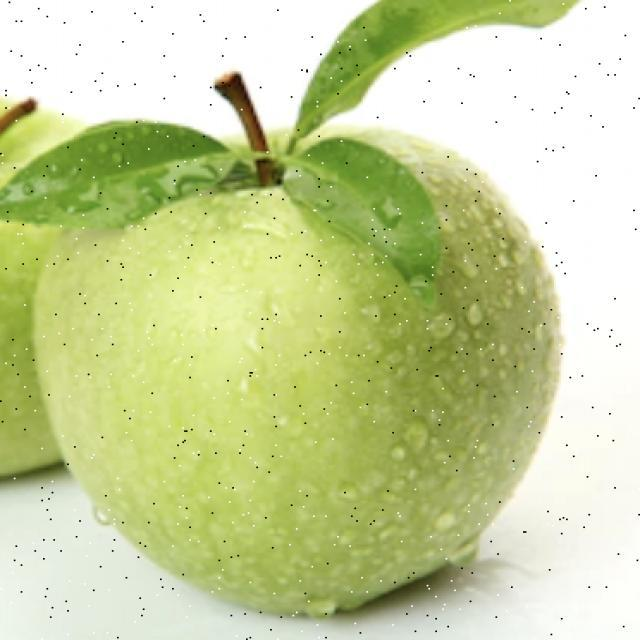Fresh Apple: (46, 135, 542, 605)
